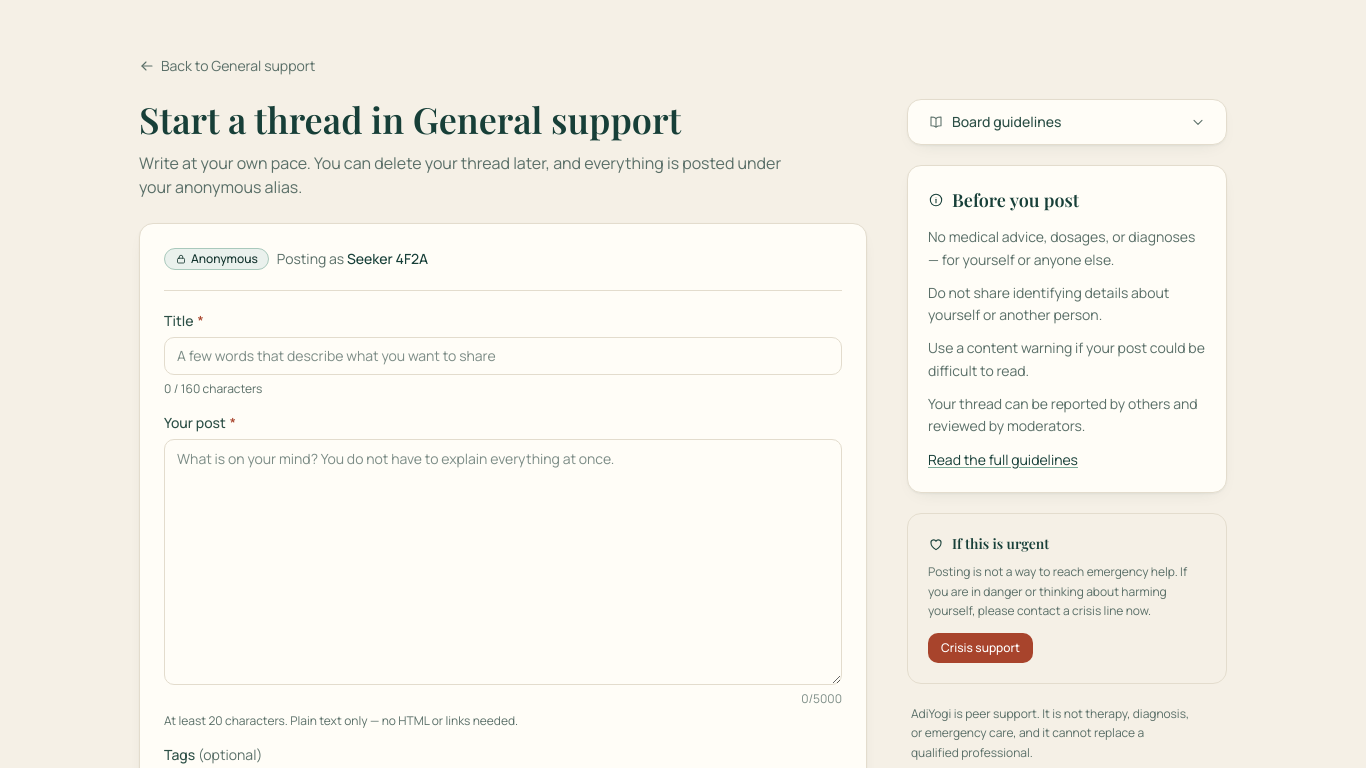
Scenario: NewThreadPage › validates a short body, shows the error and blocks submission
The width and height of the screenshot is (1366, 768).
Type "A valid title" into the field labelled "Title*".
click(503, 356); type("A valid title")  # box [164, 337, 842, 375]
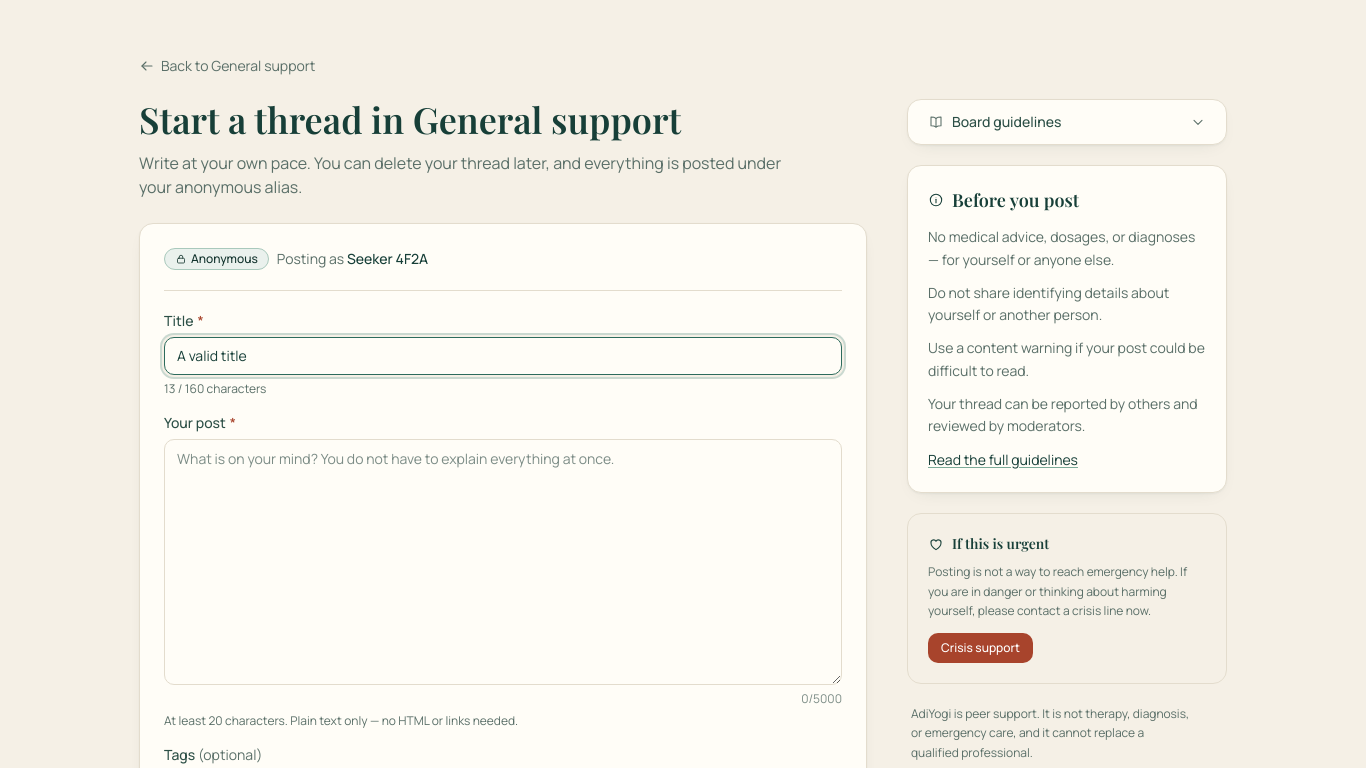
Type "too short" into the text box labelled "Your post*".
click(503, 562); type("too short")  # box [164, 439, 842, 684]
(page scrolled)
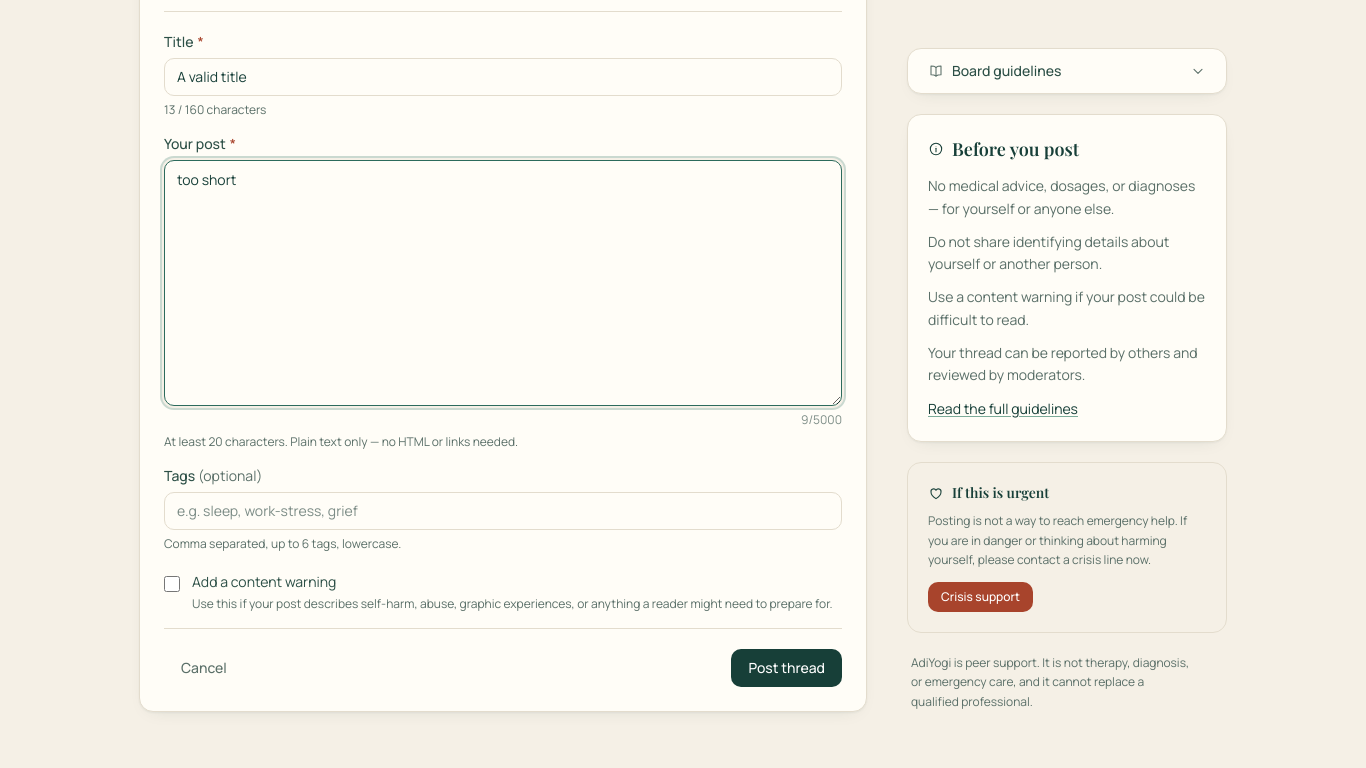
Click the button "Post thread".
click(787, 668)  # box [731, 648, 842, 686]
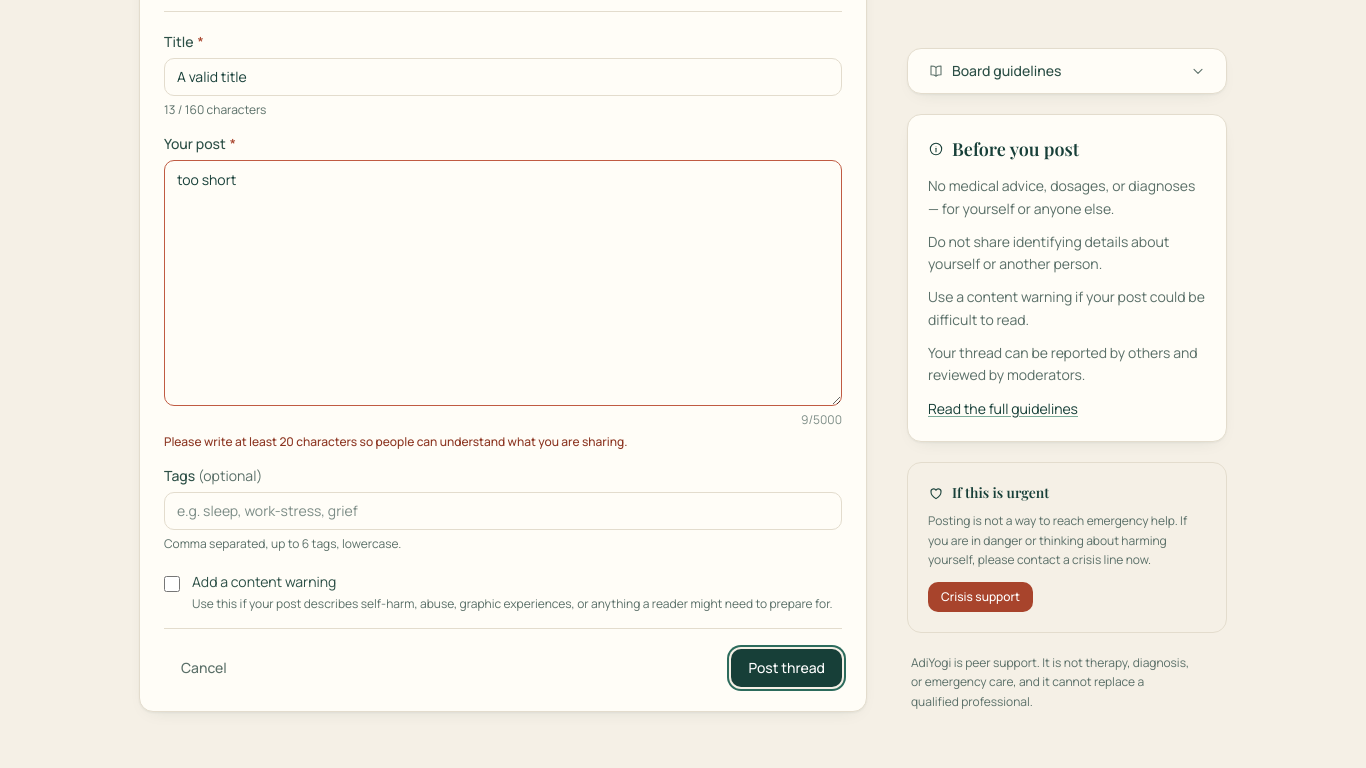
expect the text "at least 20 characters" is shown: met, box [164, 432, 628, 450]
